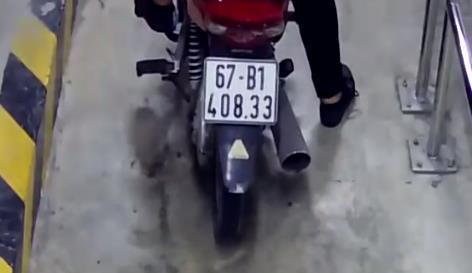lisence: (203, 55, 281, 125)
